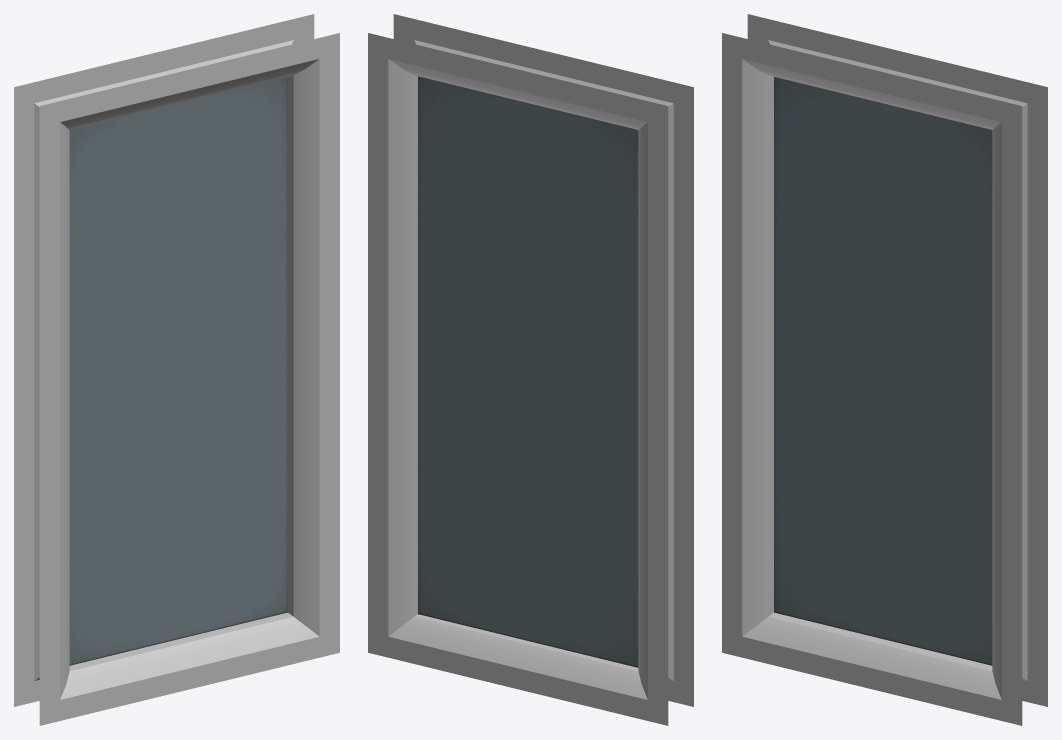
File: SM_CastleLargeHouseAssambled_Cube_015.fbx
3 renders of one model, left to right at view 1: azimuth 30°, elevation 25°; view 2: azimuth 150°, elevation 25°; view 3: azimuth 330°, elevation 25°, orthographic.
Visible parts, largest first — view 1: SM_CastleLargeHouseAssambled_Cube_015; view 2: SM_CastleLargeHouseAssambled_Cube_015; view 3: SM_CastleLargeHouseAssambled_Cube_015.
Part boxes in pixels (x1,y1,x2,y2): SM_CastleLargeHouseAssambled_Cube_015: (14, 14, 339, 725); SM_CastleLargeHouseAssambled_Cube_015: (368, 14, 693, 725); SM_CastleLargeHouseAssambled_Cube_015: (722, 14, 1047, 725).
Bounding box in the file's own units: 58 × 8.63 × 114.
